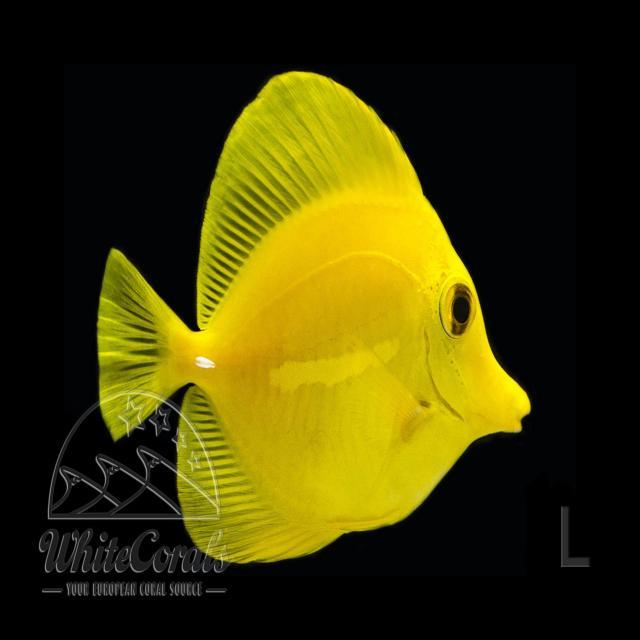YellowTang: (71, 62, 537, 569)
